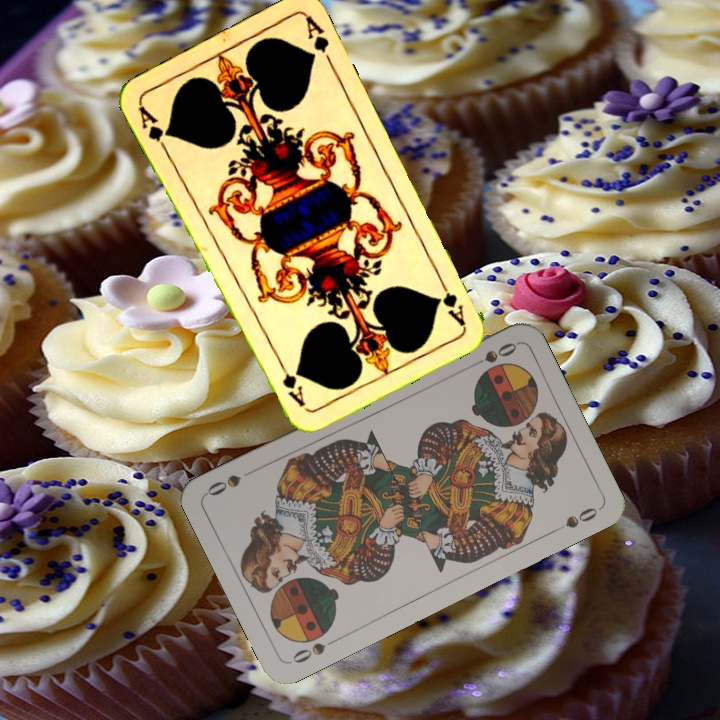GA: (134, 101, 174, 155), (434, 272, 468, 328)
SO: (464, 338, 520, 372), (288, 634, 342, 666)
